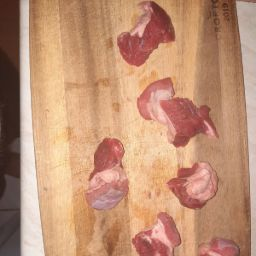Chicken Strips: (49, 8, 245, 256), (97, 72, 225, 148), (46, 118, 134, 227), (47, 1, 182, 67), (161, 149, 225, 211), (127, 199, 186, 256), (193, 213, 251, 256)
